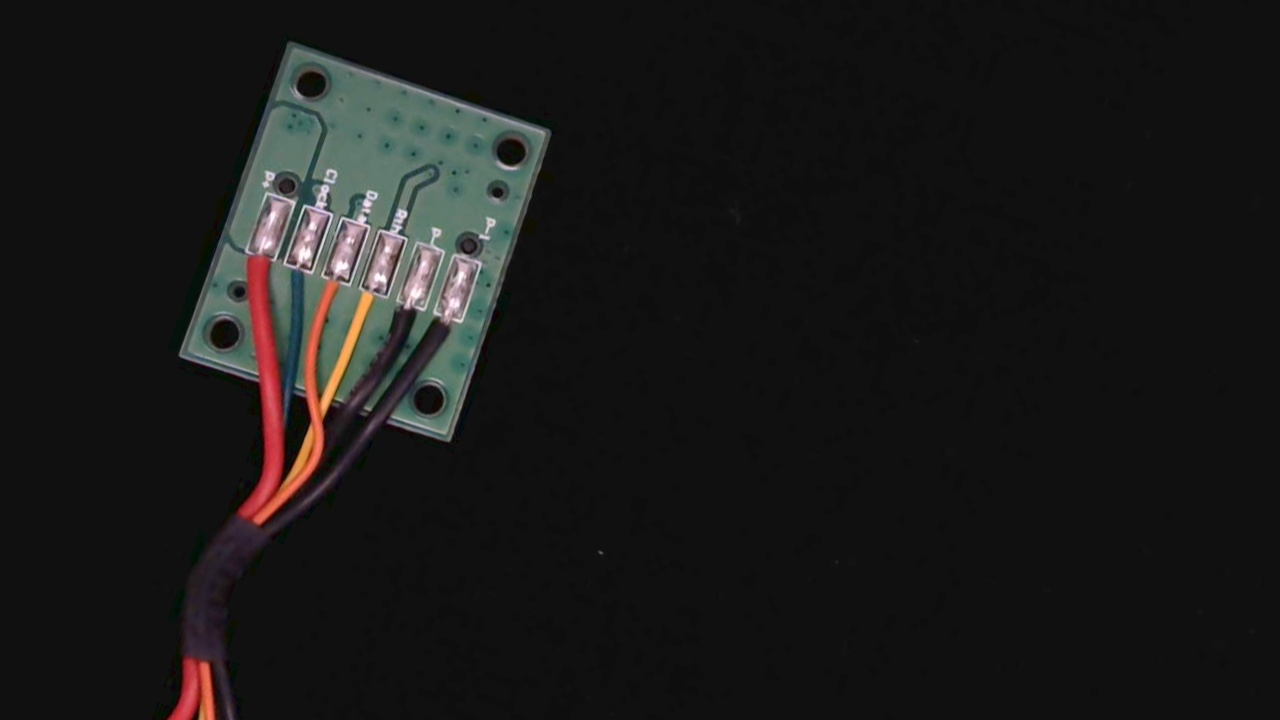Black: (378, 283, 430, 356)
Black1: (415, 296, 467, 370)
Green: (267, 246, 317, 318)
Orange: (306, 260, 354, 326)
Red: (228, 232, 278, 304)
Yellow: (339, 270, 391, 346)
